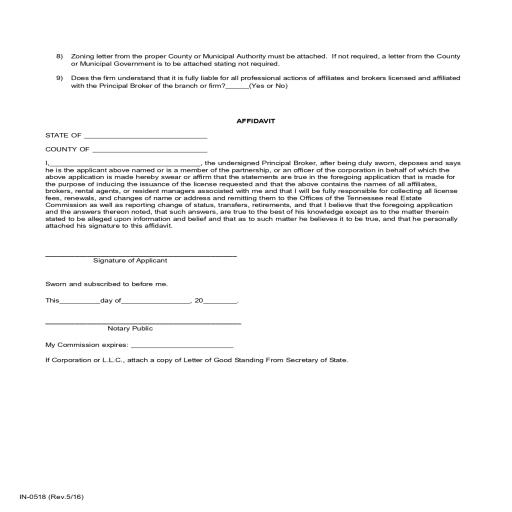Signature: (92, 258, 170, 264)
check_box: (249, 81, 290, 91)
free_text: (46, 340, 128, 351), (106, 324, 155, 334), (43, 144, 91, 154), (44, 130, 82, 140)
